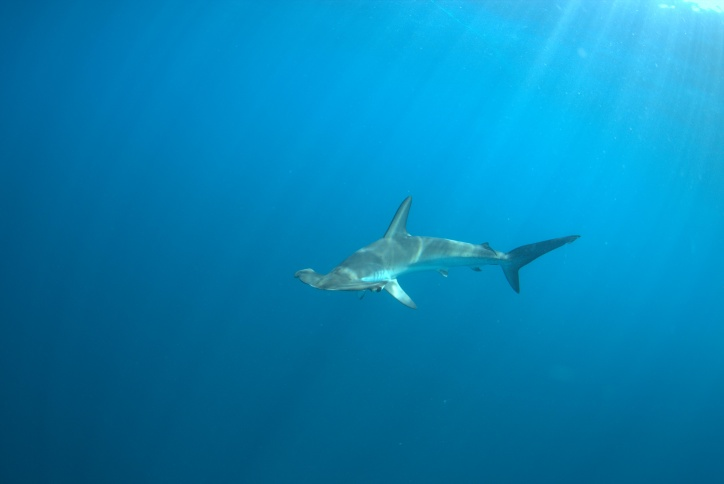Hammer: (274, 183, 608, 332)
